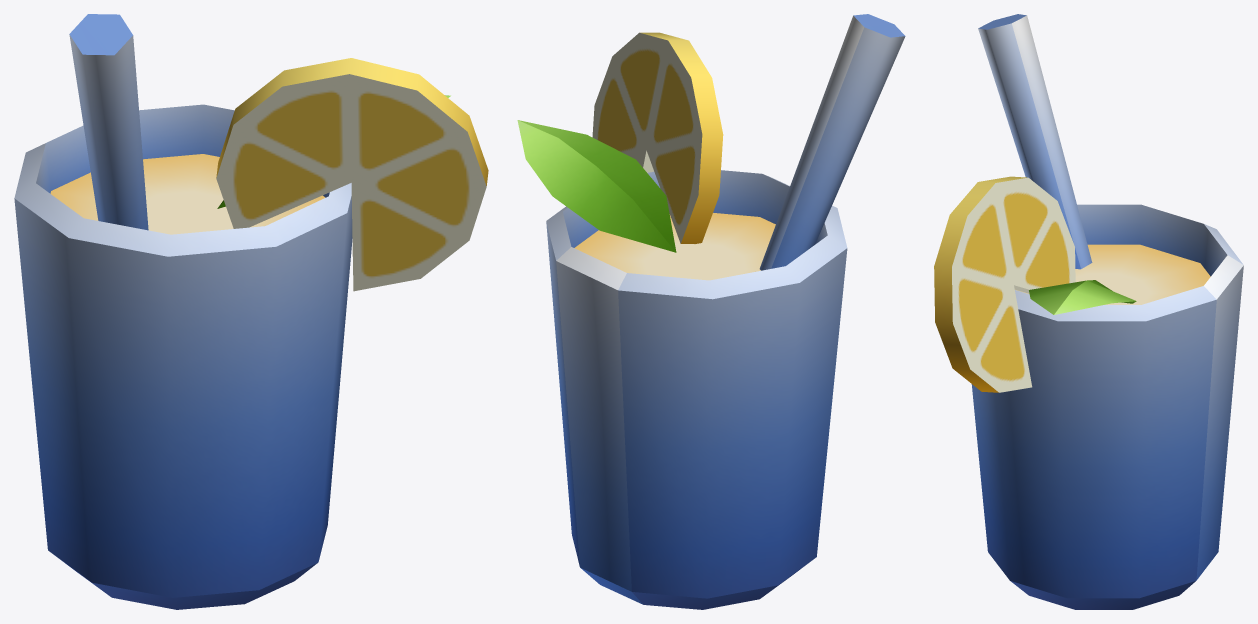
File: m_LongIslandIcetea01.fbx
3 renders of one model, left to right at view 1: azimuth 30°, elevation 25°; view 2: azimuth 150°, elevation 25°; view 3: azimuth 270°, elevation 25°, orthographic. The views are drawn at different scales.
Visible parts, largest first — view 1: m_LongIslandIcetea01; view 2: m_LongIslandIcetea01; view 3: m_LongIslandIcetea01.
Boxes of the visible parts, x1=… form: m_LongIslandIcetea01: x1=14, y1=14, x2=488, y2=609; m_LongIslandIcetea01: x1=517, y1=14, x2=905, y2=609; m_LongIslandIcetea01: x1=934, y1=14, x2=1243, y2=609.
Size of the model in its own units: 17.3 by 25.23 by 14.18.
